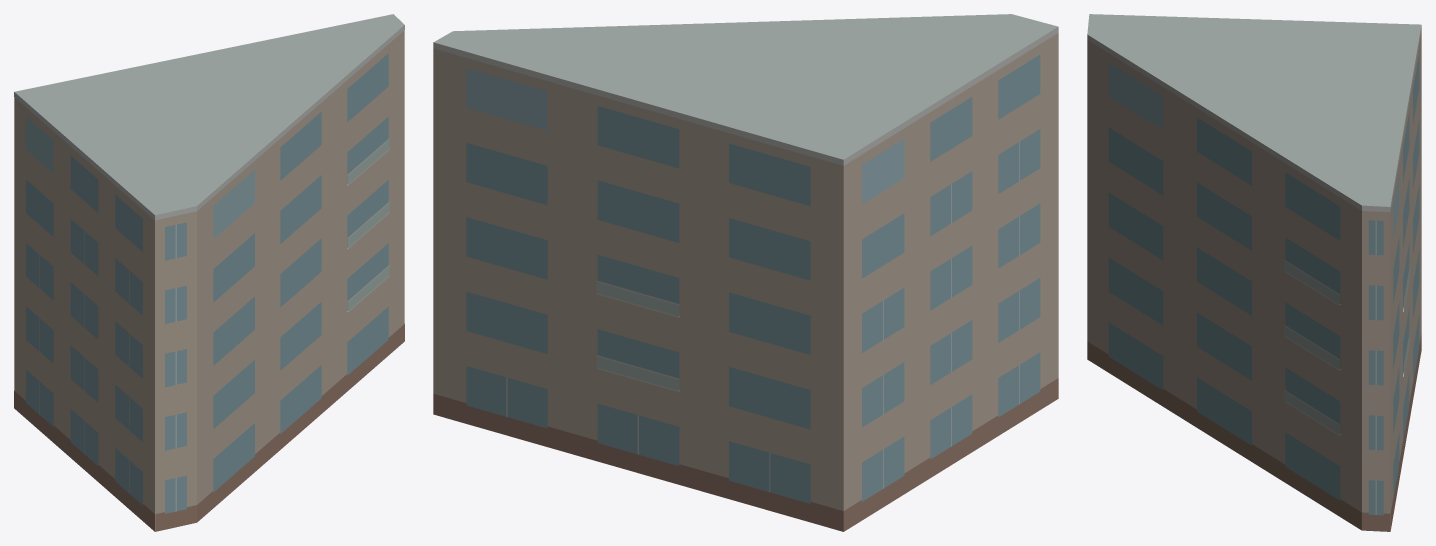
File: survey-upis-32767336.glb
3 renders of one model, left to right at view 1: azimuth 30°, elevation 25°; view 2: azimuth 150°, elevation 25°; view 3: azimuth 270°, elevation 25°, orthographic. The views are drawn at different scales.
Visible parts, largest first — view 1: survey-upis-32767336.tmp; view 2: survey-upis-32767336.tmp; view 3: survey-upis-32767336.tmp.
Boxes of the visible parts, box(x1,y1,x2,y2) form: survey-upis-32767336.tmp: box(14, 14, 404, 531); survey-upis-32767336.tmp: box(433, 14, 1058, 531); survey-upis-32767336.tmp: box(1087, 14, 1421, 531).
Bounding box in the file's own units: 19.11 × 15 × 14.
